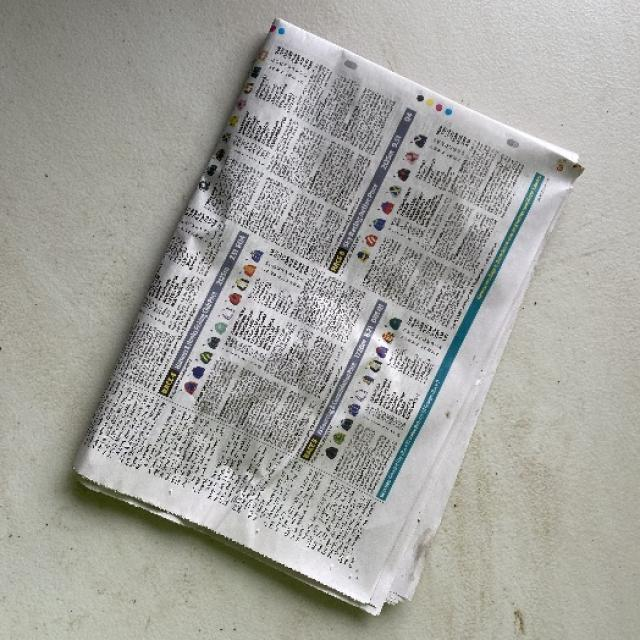inorganic: (215, 15, 542, 594)
